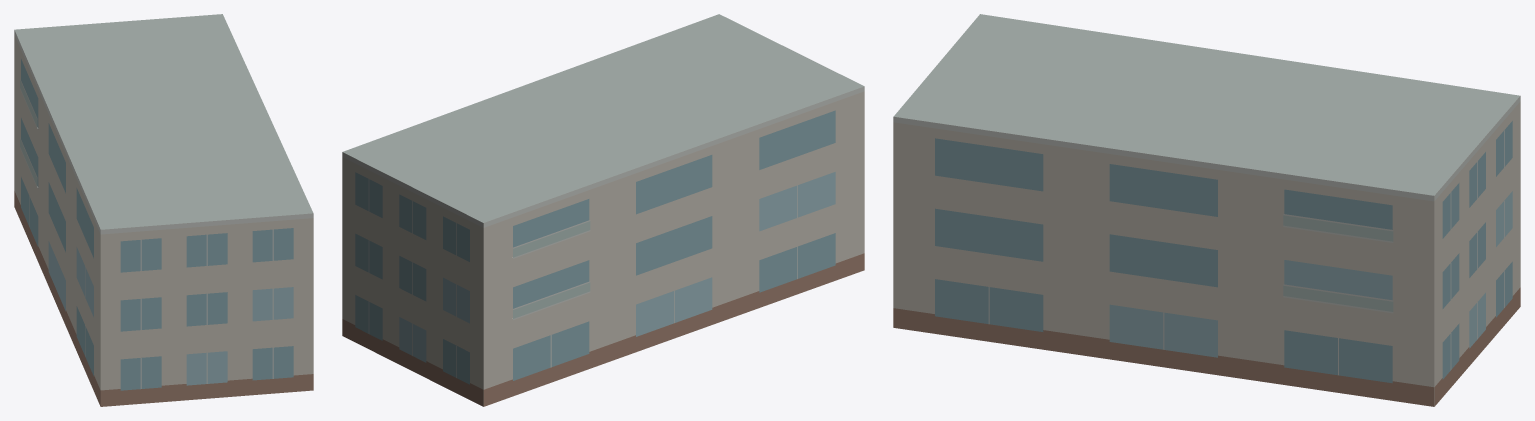
Rendered from survey-upis-32880193.glb.
3 views of the same model, side by side, from view 1: azimuth 30°, elevation 25°; view 2: azimuth 150°, elevation 25°; view 3: azimuth 270°, elevation 25° (orthographic). The views are drawn at different scales.
Visible parts, largest first — view 1: survey-upis-32880193.tmp; view 2: survey-upis-32880193.tmp; view 3: survey-upis-32880193.tmp.
Part boxes in pixels (x1=…): survey-upis-32880193.tmp: x1=14, y1=14, x2=313, y2=406; survey-upis-32880193.tmp: x1=342, y1=14, x2=864, y2=406; survey-upis-32880193.tmp: x1=893, y1=14, x2=1520, y2=406.
Bounding box in the file's own units: 16.92 × 9.15 × 24.65.
